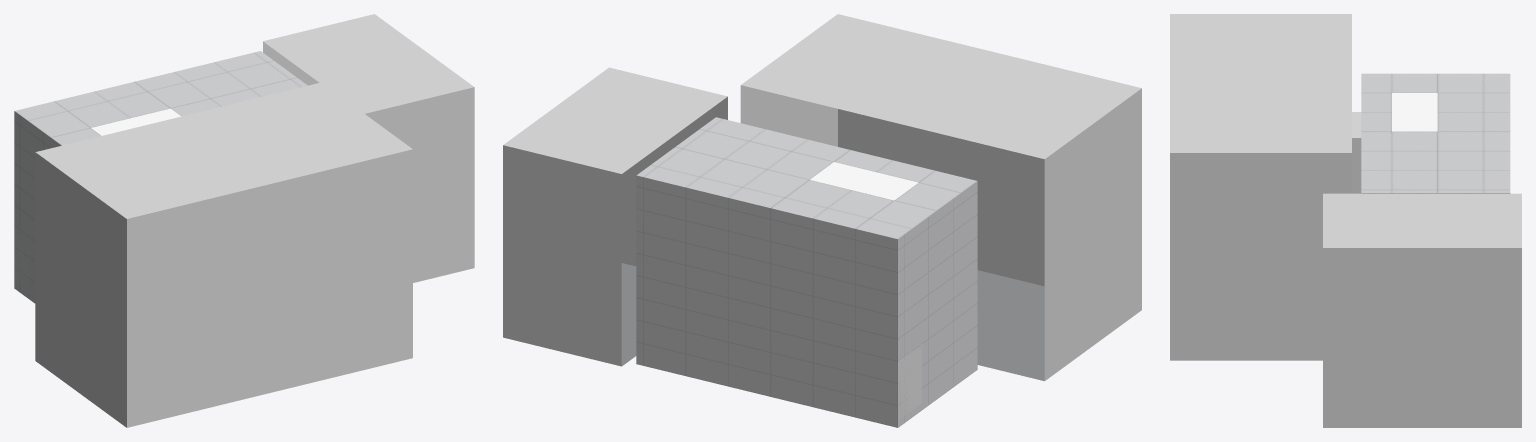
File: sala.glb
3 renders of one model, left to right at view 1: azimuth 30°, elevation 25°; view 2: azimuth 150°, elevation 25°; view 3: azimuth 270°, elevation 25°, orthographic. The views are drawn at different scales.
Parts seen in each view (by area): view 1: Sala, Luzes, Objetos; view 2: Sala, Luzes, Objetos; view 3: Sala, Luzes.
Boxes of the visible parts, left/top/right/bottom form: Sala: left=14, top=14, right=474, bottom=427; Luzes: left=91, top=108, right=181, bottom=135; Objetos: left=14, top=226, right=34, bottom=292; Sala: left=503, top=14, right=1141, bottom=427; Luzes: left=810, top=162, right=918, bottom=200; Objetos: left=898, top=344, right=922, bottom=419; Sala: left=1170, top=14, right=1521, bottom=427; Luzes: left=1392, top=93, right=1437, bottom=131.
Bounding box in the file's own units: 6.38 × 3 × 4.6.
16 materials, 3 textured.
